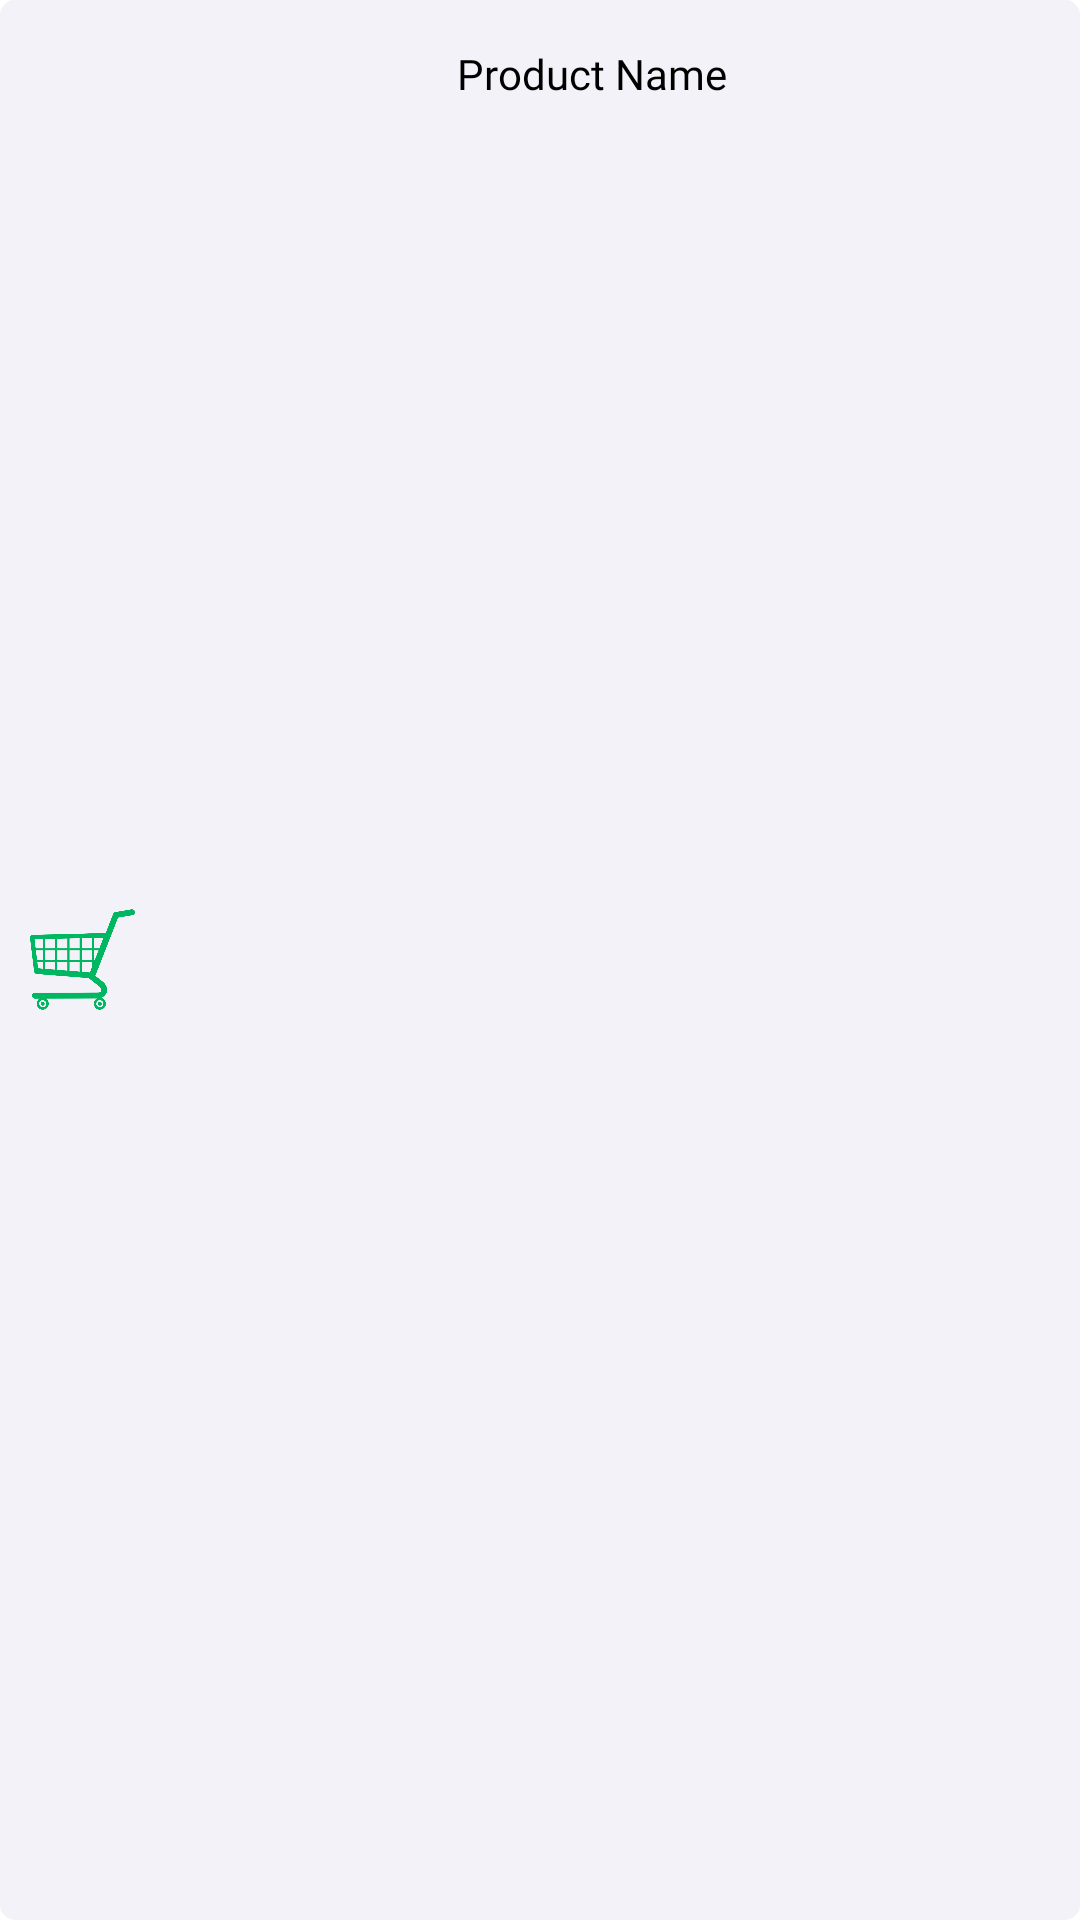

Where to tap for icons on this 1080w x 1920h app screen, as [x,y]:
cart: [82,959]
